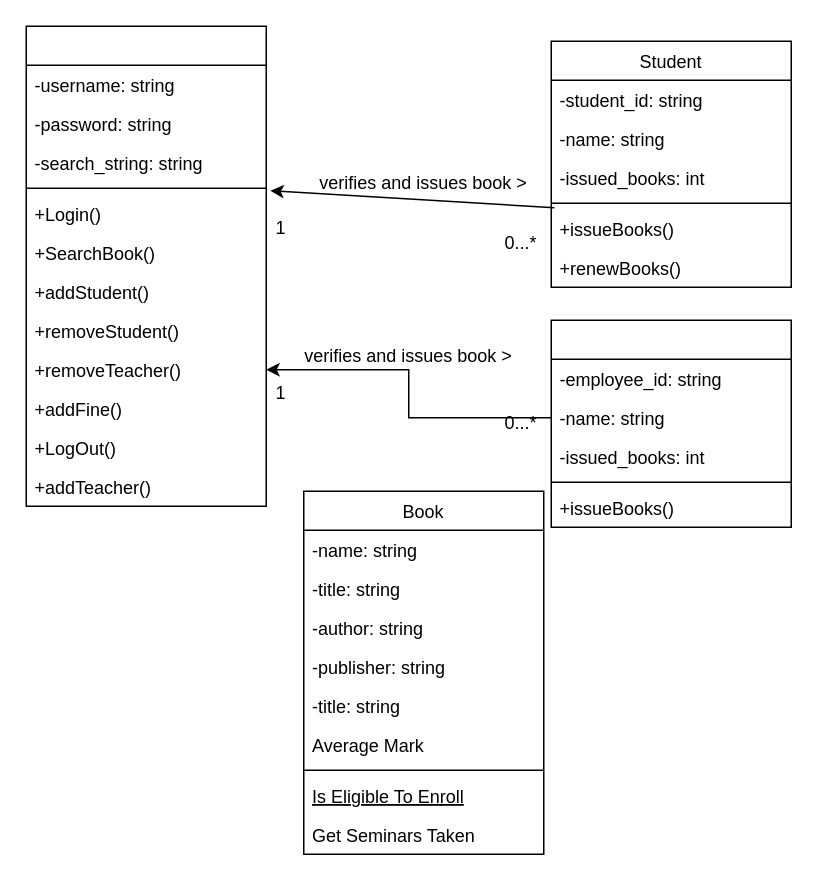
This 818x885 diagram has some shape labels left out. Here are the shapes that lost their labels. From the top down, the box of each, then its label:
(25, 25, 266, 506): Librarian
(550, 319, 791, 527): Teacher
